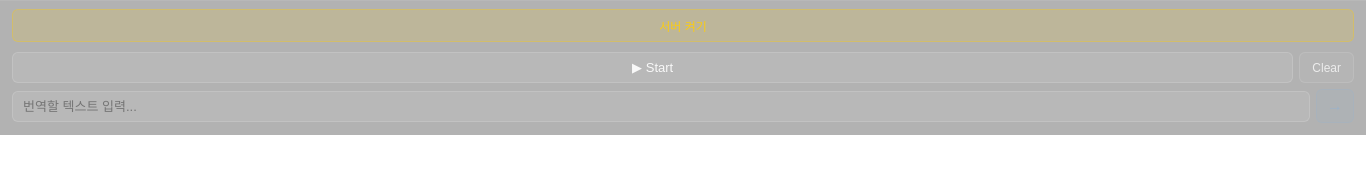
Scenario: when the server never becomes healthy › times out after polling, shows an error, and re-enables the button
Click the button with test id "start-server-btn". click: click(683, 26)
box: [12,9,1354,42]
Wait 181000 ms
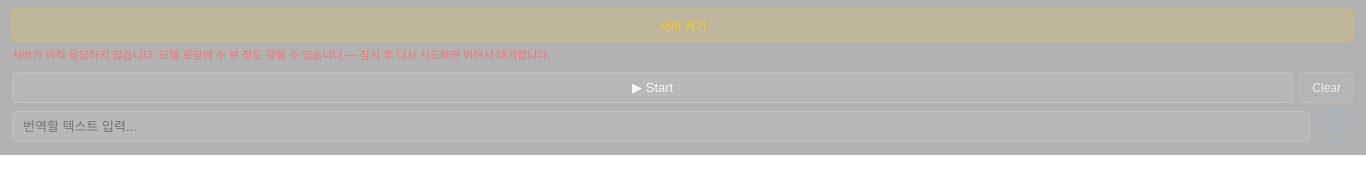
Expected: the text with test id "server-error" reads "서버가 아직 응답하지 않습니다. 모델 로딩에 수 분 정도 걸릴 수 있습니다 — 잠시 후 다시 시도하면 이어서 대기합니다.", [12,48,550,62]
